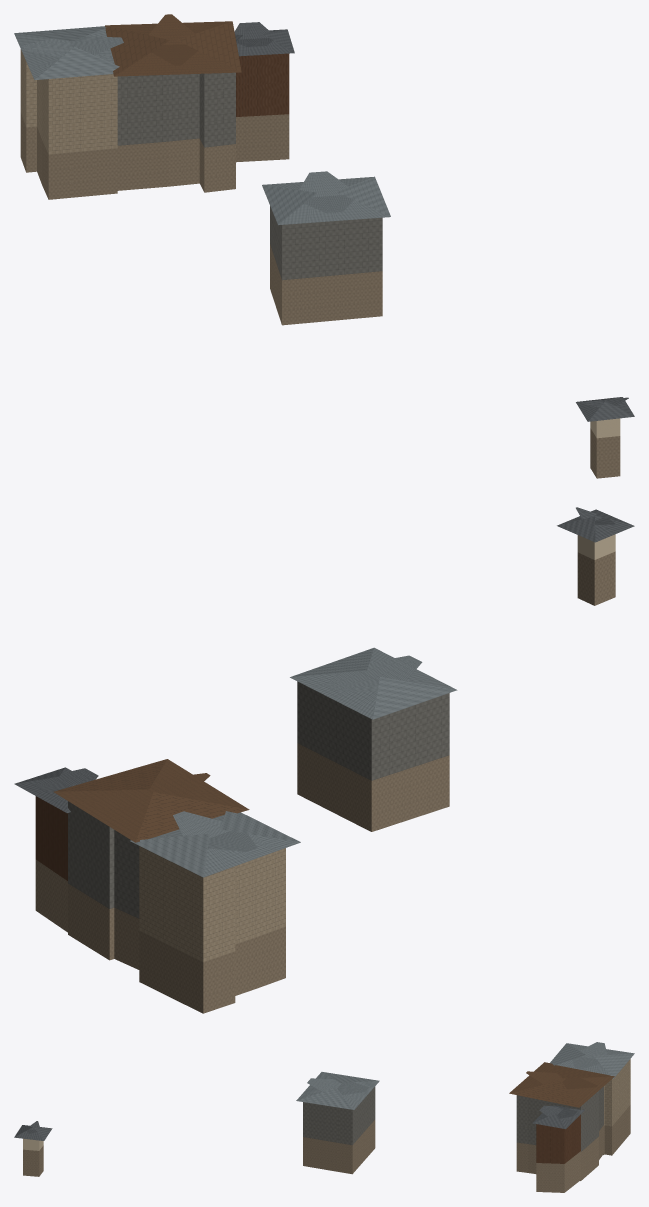
File: bld_c41_-48_460.gltf
3 renders of one model, top to bottom at view 1: azimuth 30°, elevation 25°; view 2: azimuth 150°, elevation 25°; view 3: azimuth 270°, elevation 25°, orthographic. The views are drawn at different scales.
Visible parts, largest first — view 1: bld_c41_-48_460; view 2: bld_c41_-48_460; view 3: bld_c41_-48_460.
Part boxes in pixels (<box>): bld_c41_-48_460: <box>14,14,634,478</box>; bld_c41_-48_460: <box>14,507,634,1013</box>; bld_c41_-48_460: <box>14,1042,634,1192</box>.
Size of the model in its own units: 29.93 by 15.4 by 99.04.
8 materials, 8 textured.
